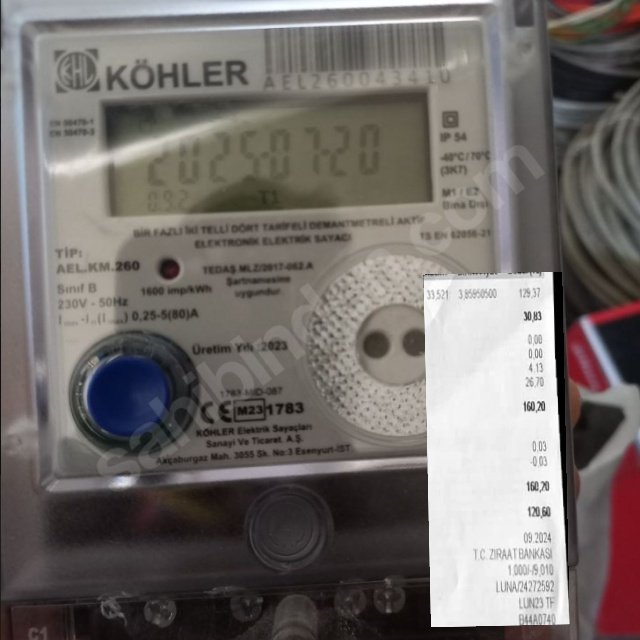electricity-bill: (423, 271, 569, 626)
